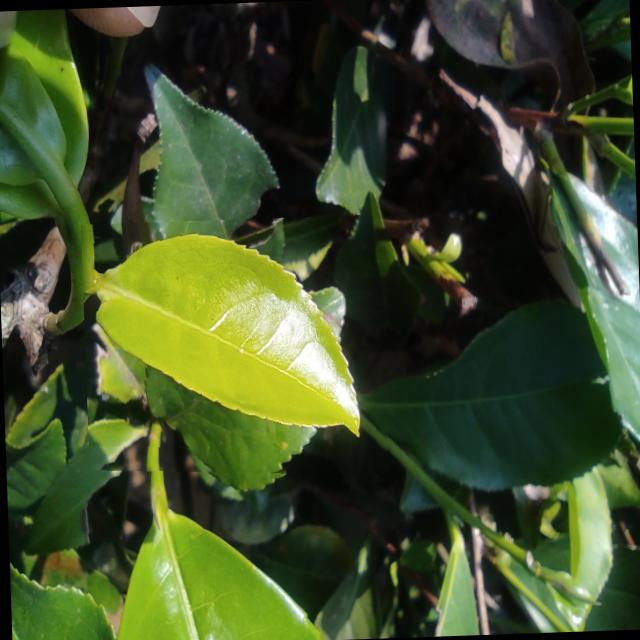Category C(4-7 days): (80, 214, 390, 485)
